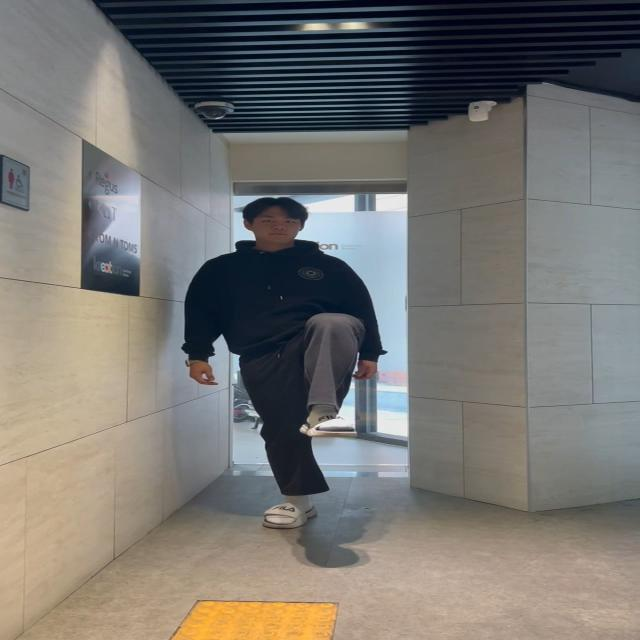knee: (289, 304, 401, 443)
